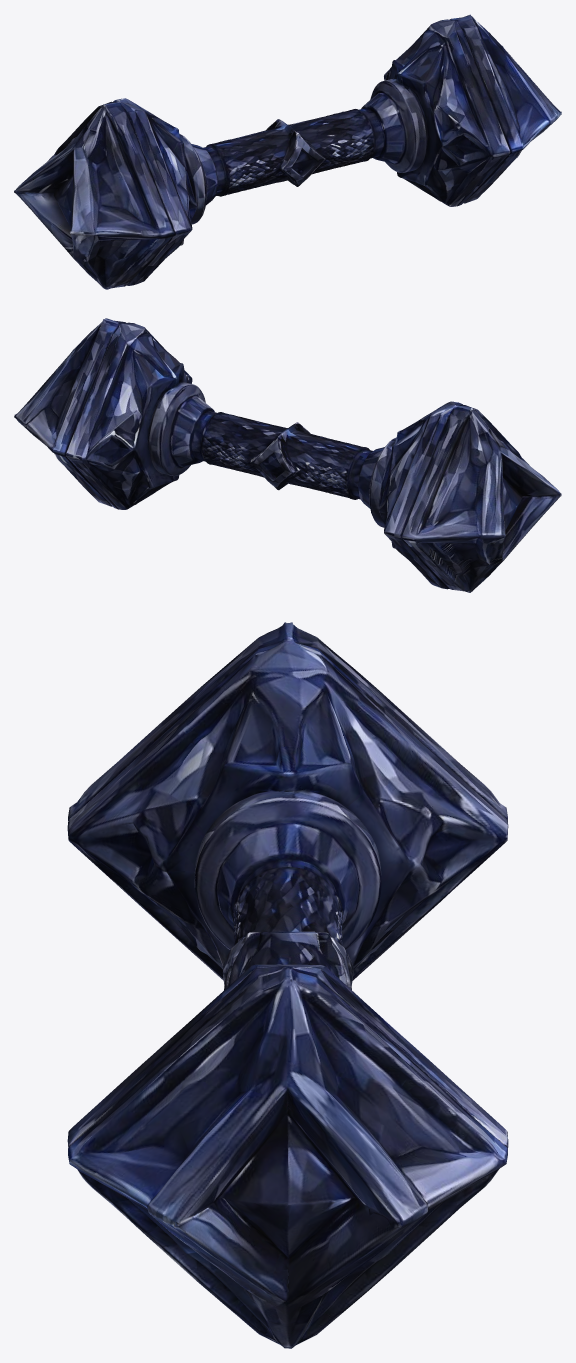
Rendered from MAHWORLD_GYM_DUMBBELL_L0.glb.
3 views of the same model, one above another, from view 1: azimuth 30°, elevation 25°; view 2: azimuth 150°, elevation 25°; view 3: azimuth 270°, elevation 25° (orthographic). The views are drawn at different scales.
Parts seen in each view (by area): view 1: tripo_node_49fbbe13-e287-4f78-a53a-bd5c49d3d895; view 2: tripo_node_49fbbe13-e287-4f78-a53a-bd5c49d3d895; view 3: tripo_node_49fbbe13-e287-4f78-a53a-bd5c49d3d895.
Boxes of the visible parts, left/top/right/bottom form: tripo_node_49fbbe13-e287-4f78-a53a-bd5c49d3d895: left=14, top=14, right=561, bottom=289; tripo_node_49fbbe13-e287-4f78-a53a-bd5c49d3d895: left=14, top=318, right=561, bottom=592; tripo_node_49fbbe13-e287-4f78-a53a-bd5c49d3d895: left=67, top=622, right=508, bottom=1348.
Size of the model in its own units: 0.9828 by 0.3537 by 0.3812.
1 material, 1 textured.
